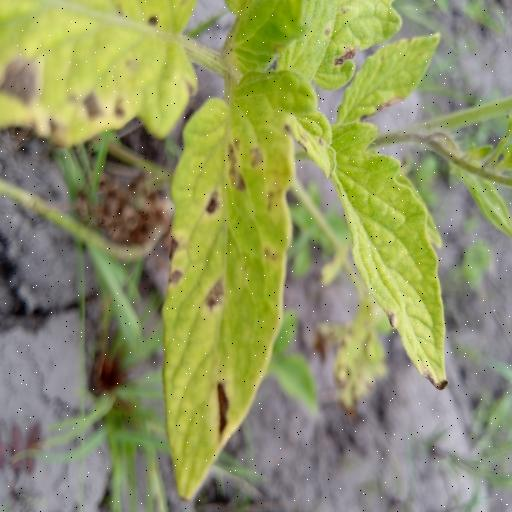Tomato_Brown_Spots: (161, 92, 298, 502)
